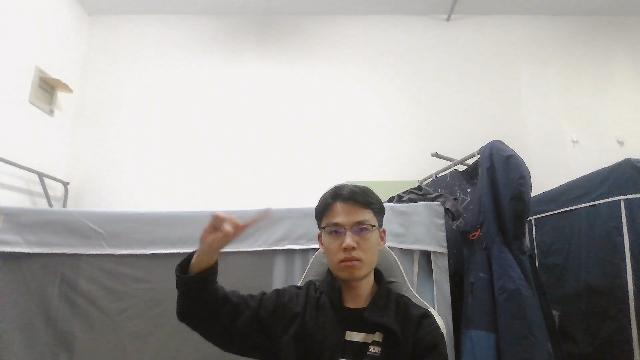one: (194, 207, 282, 256)
